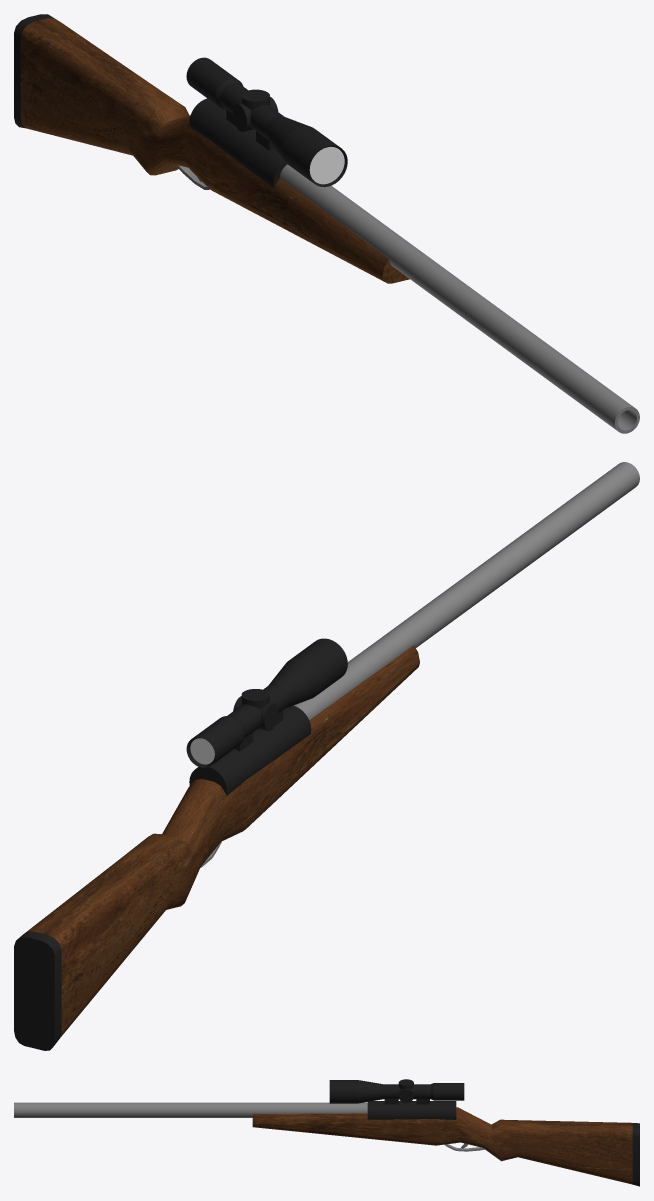
The model's file is 010Rifle.fbx.
3 renders of one model, top to bottom at view 1: azimuth 30°, elevation 25°; view 2: azimuth 150°, elevation 25°; view 3: azimuth 270°, elevation 25°, orthographic. The views are drawn at different scales.
Parts seen in each view (by area): view 1: 立方体, 円柱, 円柱.002, 円柱.001; view 2: 立方体, 円柱, 円柱.002, 円柱.001; view 3: 立方体, 円柱, 円柱.002, 円柱.001.
Part boxes in pixels (x1,y1,x2,y2): 立方体: (14, 14, 409, 283); 円柱: (280, 164, 639, 433); 円柱.002: (186, 57, 347, 187); 円柱.001: (189, 98, 287, 188); 立方体: (14, 645, 419, 1050); 円柱: (294, 462, 639, 719); 円柱.002: (186, 638, 347, 767); 円柱.001: (189, 705, 311, 795); 立方体: (252, 1107, 639, 1186); 円柱: (14, 1102, 367, 1117); 円柱.002: (329, 1079, 464, 1104); 円柱.001: (367, 1101, 456, 1119).
Size of the model in its own units: 4.51 by 20.51 by 114.
